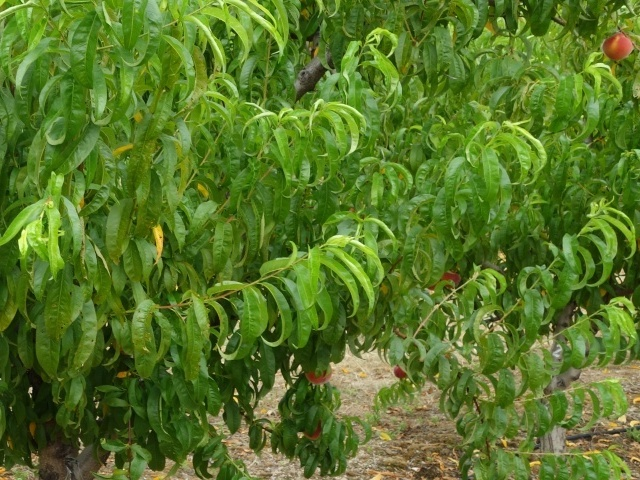peach: (600, 28, 636, 65), (304, 362, 335, 389), (439, 267, 464, 292), (302, 420, 324, 446)
